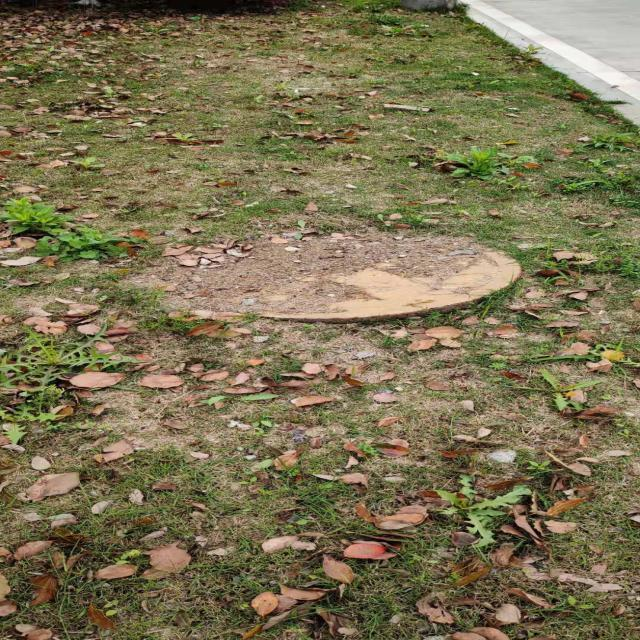Faulty: (146, 227, 516, 322)
